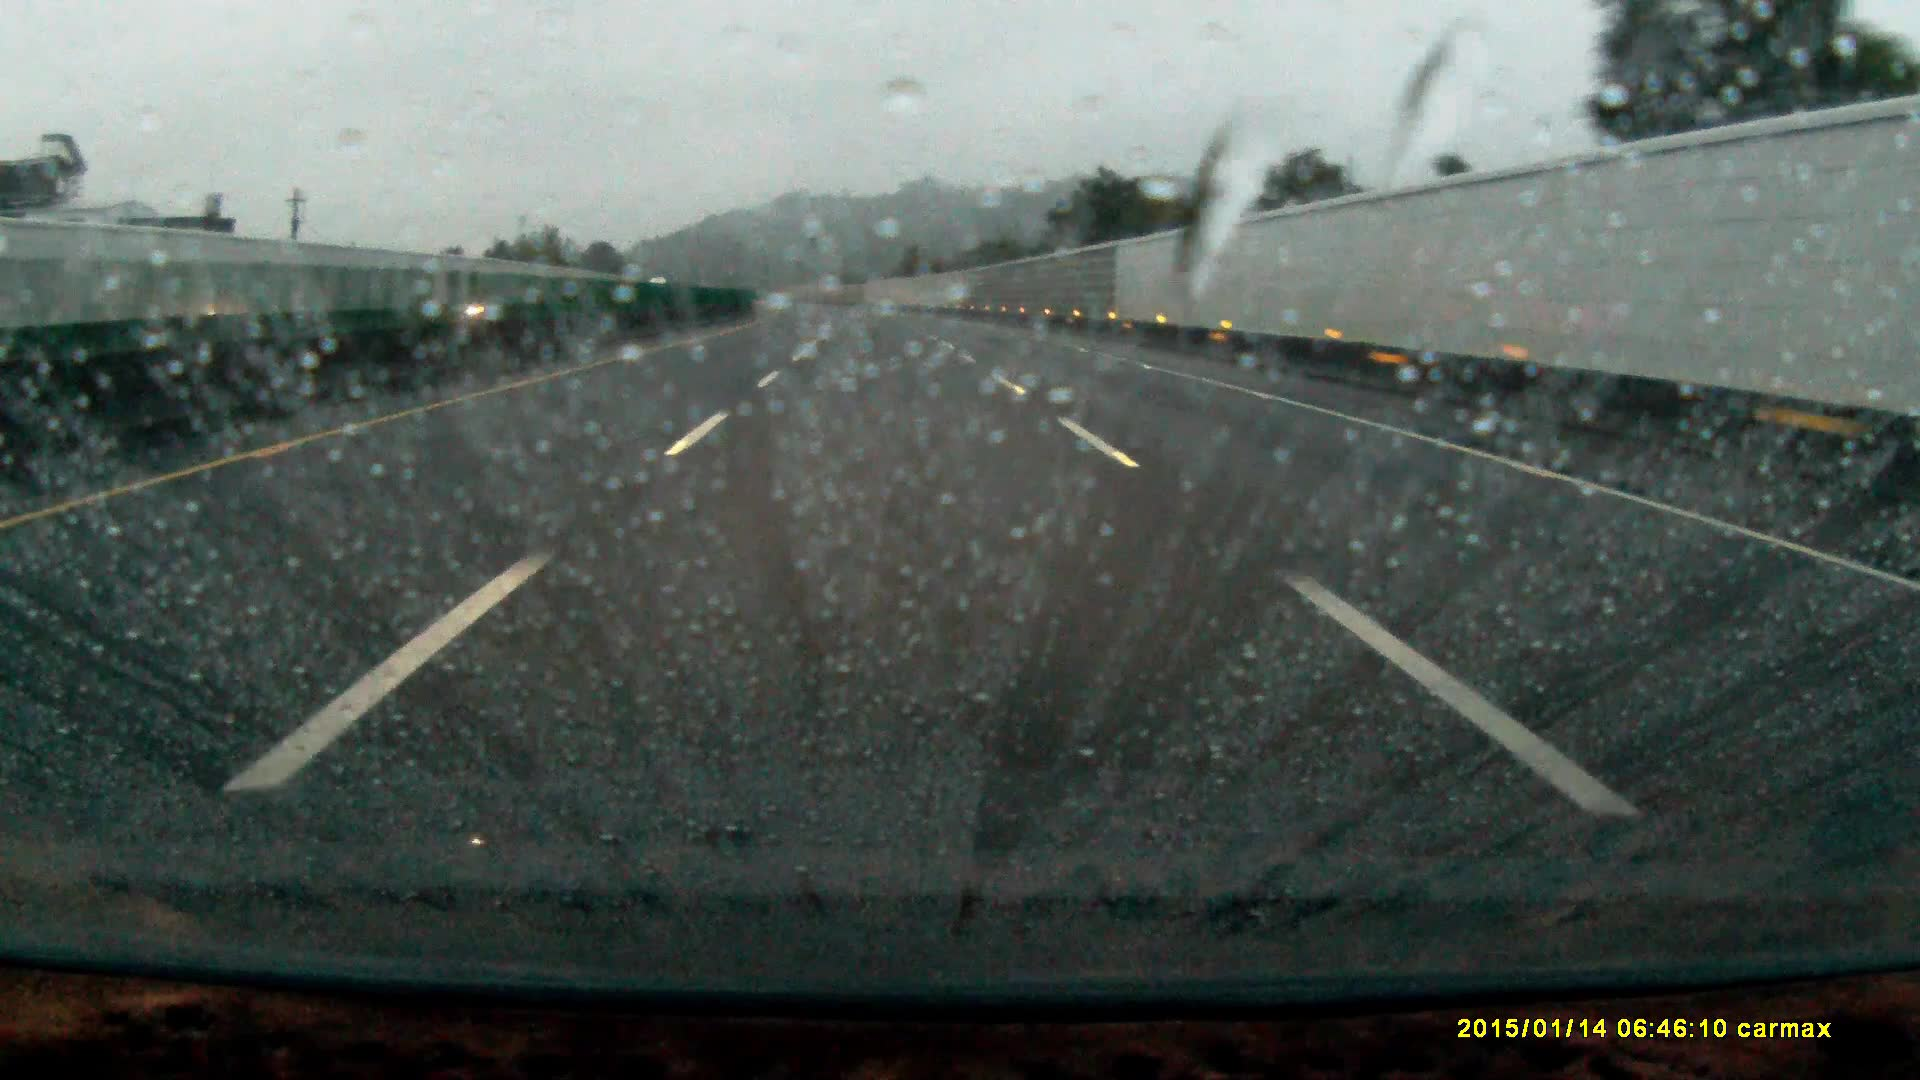vehicle: (448, 293, 502, 320)
